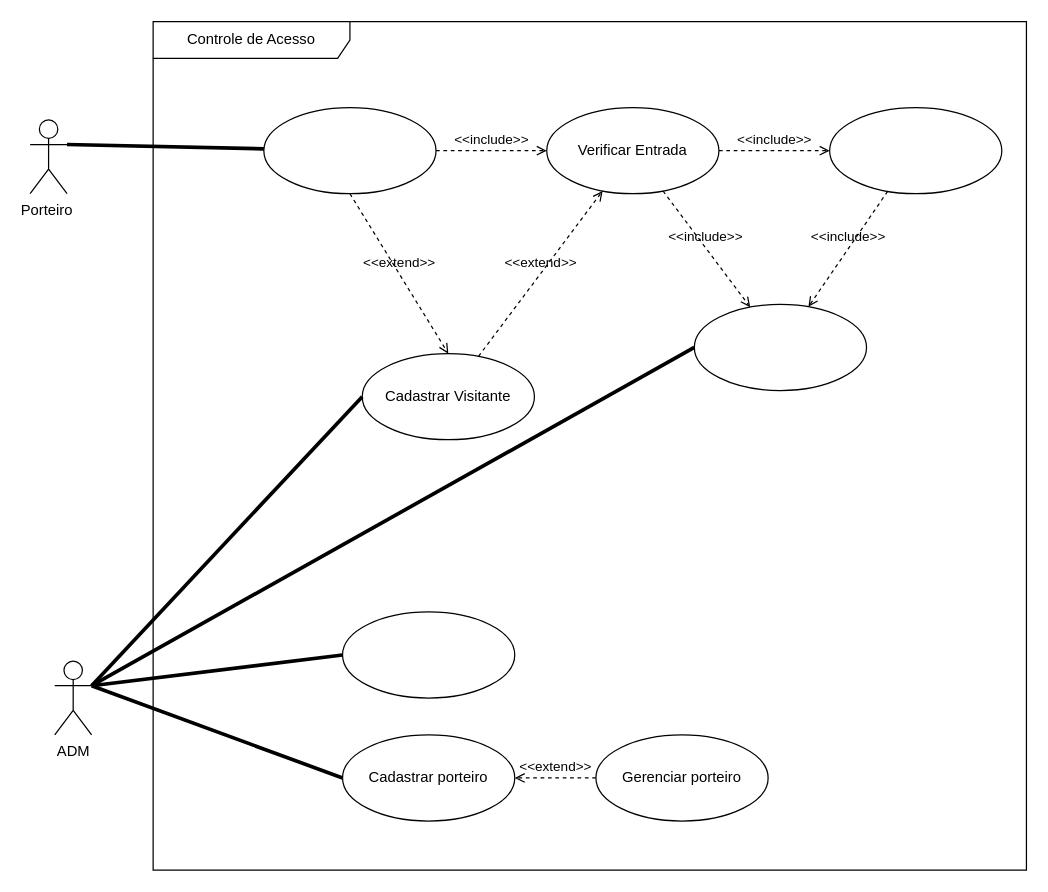
The diagram is 1048 pixels wide and 892 high, and some of its shapes have lost their labels. The shapes that lost their labels are listed below. From the top down, each one's centre as x and y in pixels, then its label:
At pixel 349 150: "Fazer Login".
At pixel 915 150: "Verificar Saída".
At pixel 780 347: "Gerar relatório de acesso".
At pixel 428 654: "Gerenciar visitante".
